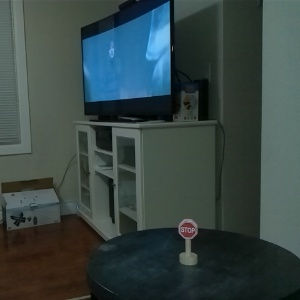stop sign: (175, 216, 200, 268)
